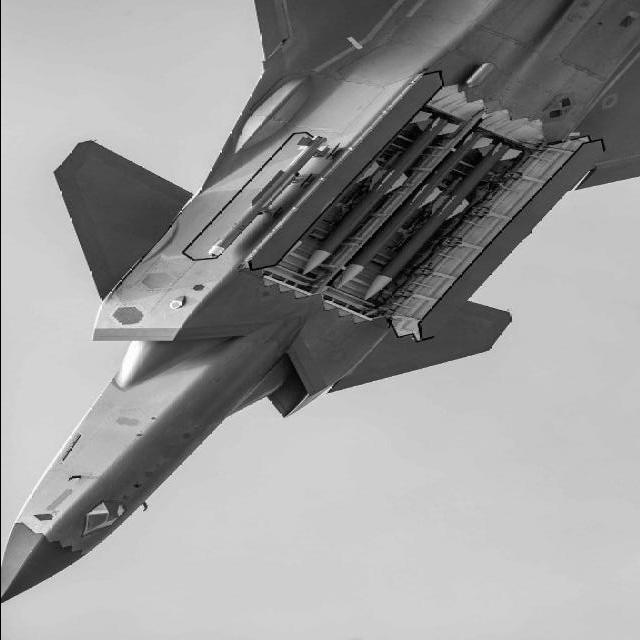missile: (269, 69, 494, 302), (338, 118, 540, 322), (194, 114, 328, 260)
